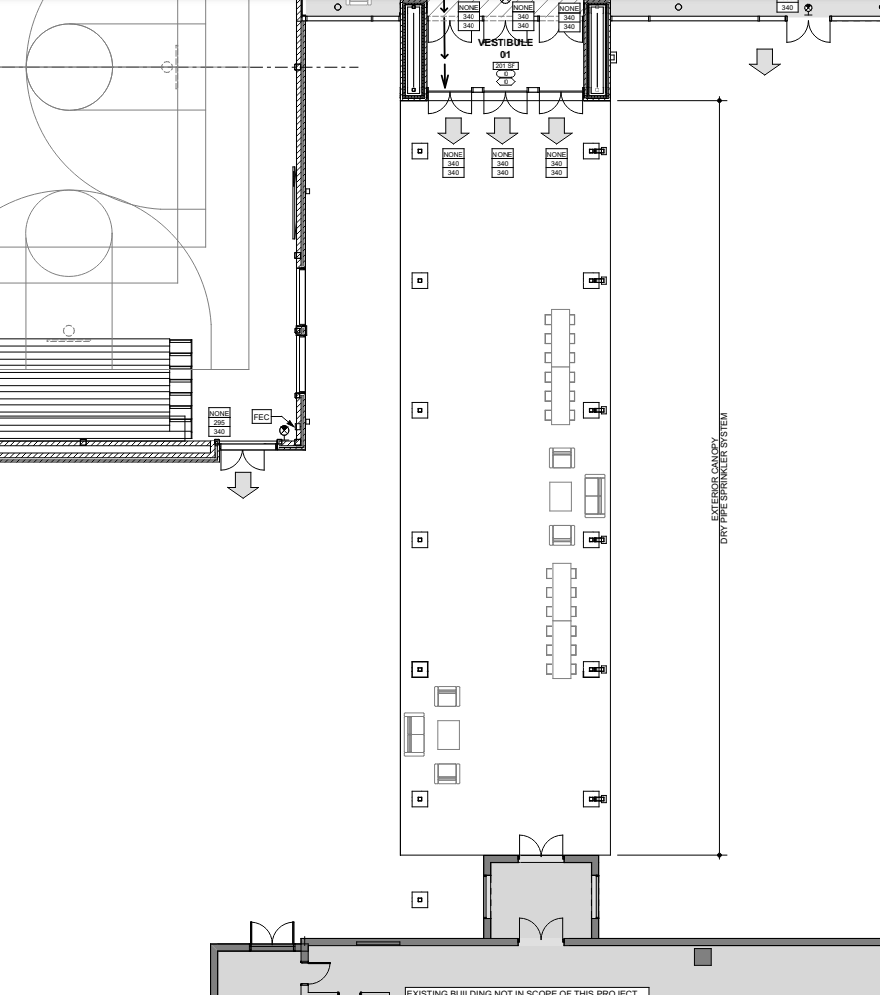double door: (246, 914, 298, 955), (516, 830, 568, 867), (516, 913, 568, 950), (425, 86, 477, 121), (480, 85, 533, 119), (786, 14, 834, 51), (537, 85, 589, 118), (219, 442, 270, 473)
